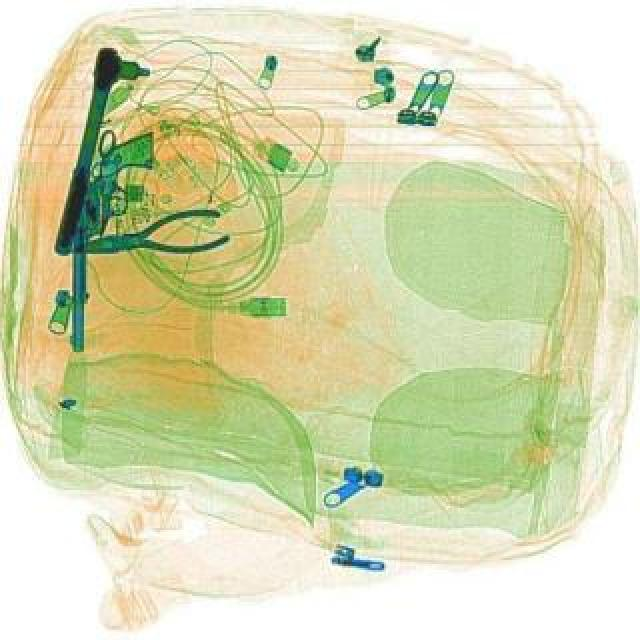gun: (68, 182, 108, 354), (98, 134, 154, 234)
wrench: (70, 204, 230, 276)
